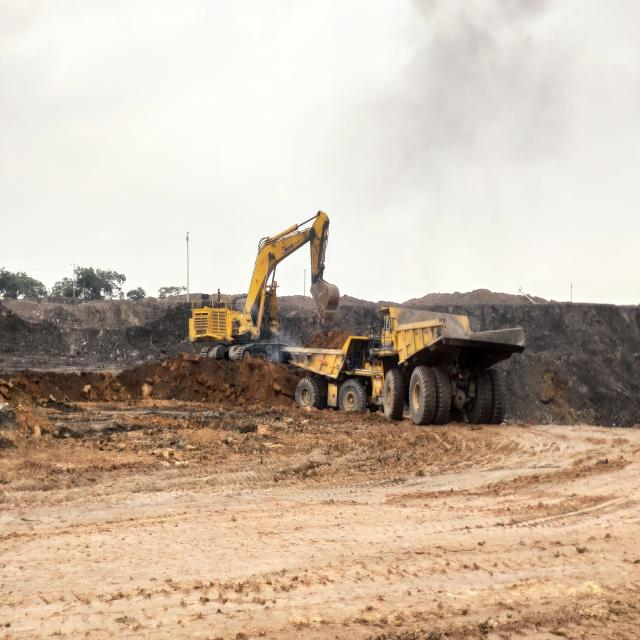dump_truck: (377, 303, 513, 429), (277, 326, 390, 422)
excavator: (177, 204, 349, 353)
